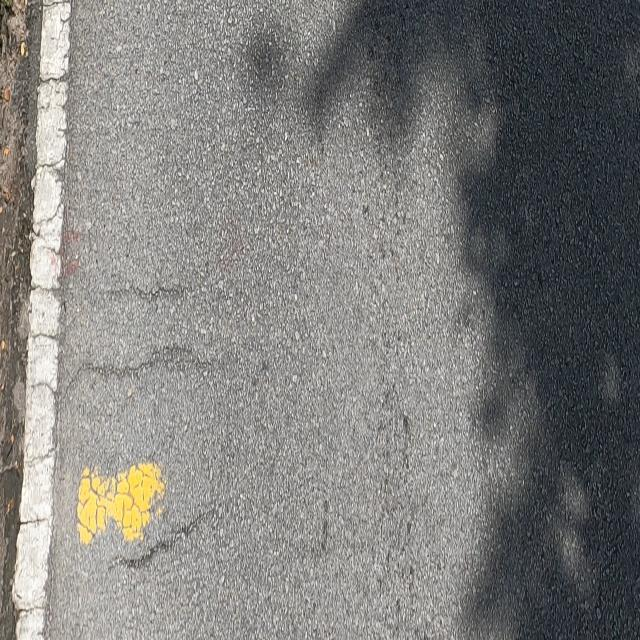Retak-Melintang: (28, 340, 224, 402), (110, 499, 217, 577), (38, 273, 191, 312)
